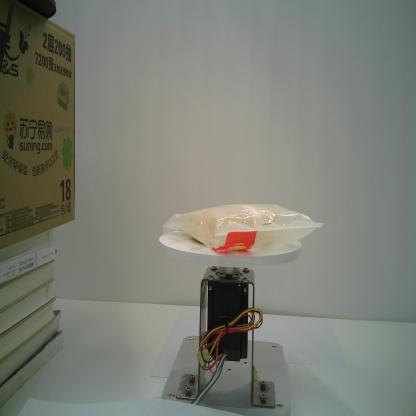Dessert: (162, 201, 326, 254)
